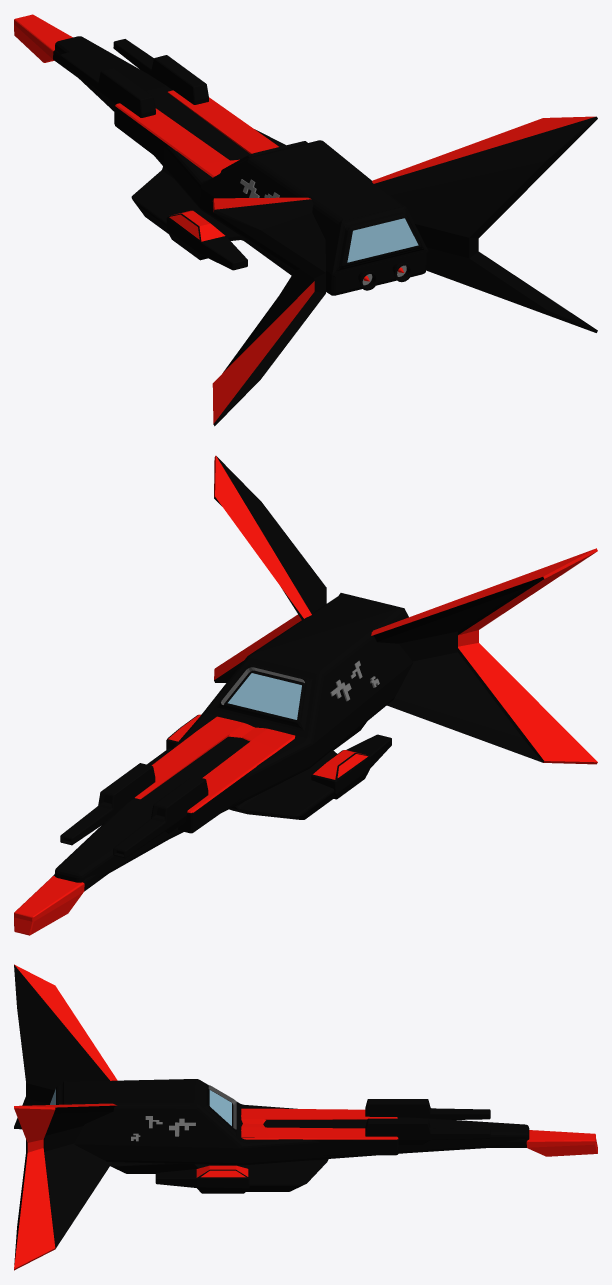
Rendered from Spaceship_01.fbx.
3 renders of one model, top to bottom at view 1: azimuth 30°, elevation 25°; view 2: azimuth 150°, elevation 25°; view 3: azimuth 270°, elevation 25°, orthographic. The views are drawn at different scales.
Visible parts, largest first — view 1: Spaceship_01_Merge; view 2: Spaceship_01_Merge; view 3: Spaceship_01_Merge.
Boxes of the visible parts, x1,y1,x2,y2 form: Spaceship_01_Merge: [14, 14, 597, 426]; Spaceship_01_Merge: [14, 455, 597, 935]; Spaceship_01_Merge: [14, 964, 597, 1270].
Size of the model in its own units: 458 by 247 by 794.
